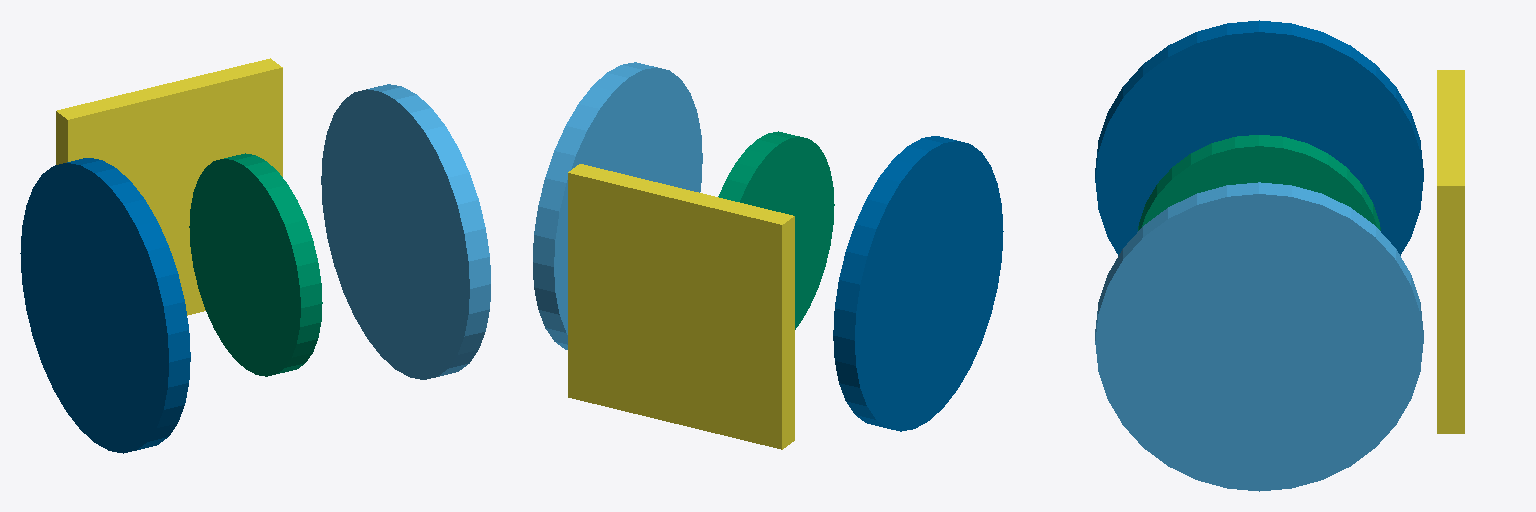
URDF robot description (ditto3):
<?xml version="1.0" ?>
<robot name="ditto3">
  <joint name="face_mover_joint" type="revolute">
    <parent link="body"/>
    <child link="mover_link"/>
    <origin rpy="3.14159  1.56989  3.14159" xyz="0    0    0.02"/>
    <axis xyz="-1.00000000e+00   0.00000000e+00  -9.00000000e-04"/>
    <limit effort="-1.0" lower="-1.79769e+308" upper="1.79769e+308" velocity="-1.0"/>
  </joint>
  <joint name="left_wheel_joint" type="revolute">
    <parent link="body"/>
    <child link="left_wheel"/>
    <origin rpy="1.5707  0      1.5707" xyz="0.07     0       0.01833"/>
    <axis xyz="0.00000000e+00   1.00000000e+00   9.00000000e-05"/>
    <limit effort="-1.0" lower="-1.79769e+308" upper="1.79769e+308" velocity="-1.0"/>
  </joint>
  <joint name="fixed_joint" type="revolute">
    <parent link="mover_link"/>
    <child link="front_face"/>
    <origin rpy="3.11515 -1.56988 -3.11517" xyz="0    0.07  0"/>
    <axis xyz="0  0  0"/>
    <limit effort="0" lower="0" upper="0" velocity="0"/>
  </joint>
  <joint name="right_wheel_joint" type="revolute">
    <parent link="body"/>
    <child link="right_wheel"/>
    <origin rpy="1.5707  0      1.5707" xyz="-0.07     0       0.01833"/>
    <axis xyz="0.00000000e+00   1.00000000e+00   9.00000000e-05"/>
    <limit effort="-1.0" lower="-1.79769e+308" upper="1.79769e+308" velocity="-1.0"/>
  </joint>
  <link name="body">
    <inertial>
      <mass value="40"/>
      <origin rpy="0  0  0" xyz="0  0  0"/>
      <inertia ixx="0.166667" ixy="0" ixz="0" iyy="0.166667" iyz="0" izz="0.166667"/>
    </inertial>
    <collision name="collision">
      <origin rpy="0  0  0" xyz="0       0      -0.03666"/>
      <geometry>
        <mesh filename="[local-path]/catkin_ws/src/Graduation CADs/OneDrive-2019-11-22/bodyCorrected.obj" scale="0.001 0.001 0.001"/>
      </geometry>
    </collision>
    <visual name="visual">
      <origin rpy="0  0  0" xyz="0       0      -0.03666"/>
      <geometry>
        <mesh filename="[local-path]/catkin_ws/src/Graduation CADs/OneDrive-2019-11-22/bodyCorrected.obj" scale="0.001 0.001 0.001"/>
      </geometry>
    </visual>
  </link>
  <link name="left_wheel">
    <inertial>
      <mass value="0.5"/>
      <origin rpy="0  0  0" xyz="0  0  0"/>
      <inertia ixx="0.145833" ixy="0" ixz="0" iyy="0.145833" iyz="0" izz="0.125"/>
    </inertial>
    <collision name="collision">
      <origin rpy="0  0  0" xyz="0  0  0"/>
      <geometry>
        <cylinder length="0.01" radius="0.06"/>
      </geometry>
    </collision>
    <visual name="visual">
      <origin rpy="0  0  0" xyz="0  0  0"/>
      <geometry>
        <cylinder length="0.01" radius="0.06"/>
      </geometry>
    </visual>
  </link>
  <link name="mover_link">
    <inertial>
      <mass value="0.5"/>
      <origin rpy="0  0  0" xyz="0  0  0"/>
      <inertia ixx="0.145833" ixy="0" ixz="0" iyy="0.145833" iyz="0" izz="0.125"/>
    </inertial>
    <collision name="collision">
      <origin rpy="0  0  0" xyz="0  0  0"/>
      <geometry>
        <cylinder length="0.01" radius="0.045"/>
      </geometry>
    </collision>
    <visual name="visual">
      <origin rpy="0  0  0" xyz="0  0  0"/>
      <geometry>
        <cylinder length="0.01" radius="0.045"/>
      </geometry>
    </visual>
  </link>
  <link name="front_face">
    <inertial>
      <mass value="150.5"/>
      <origin rpy="0  0  0" xyz="0  0  0"/>
      <inertia ixx="0.166667" ixy="0" ixz="0" iyy="0.166667" iyz="0" izz="0.166667"/>
    </inertial>
    <collision name="collision">
      <origin rpy="0  0  0" xyz="0  0  0"/>
      <geometry>
        <box size="0.1 0.01 0.1"/>
      </geometry>
    </collision>
    <visual name="visual">
      <origin rpy="0  0  0" xyz="0  0  0"/>
      <geometry>
        <box size="0.1 0.01 0.1"/>
      </geometry>
    </visual>
  </link>
  <link name="right_wheel">
    <inertial>
      <mass value="0.5"/>
      <origin rpy="0  0  0" xyz="0  0  0"/>
      <inertia ixx="0.145833" ixy="0" ixz="0" iyy="0.145833" iyz="0" izz="0.125"/>
    </inertial>
    <collision name="collision">
      <origin rpy="0  0  0" xyz="0  0  0"/>
      <geometry>
        <cylinder length="0.01" radius="0.06"/>
      </geometry>
    </collision>
    <visual name="visual">
      <origin rpy="0  0  0" xyz="0  0  0"/>
      <geometry>
        <cylinder length="0.01" radius="0.06"/>
      </geometry>
    </visual>
  </link>


  <gazebo>
    <plugin name="my_speed_controller_plugin" filename="libmy_speed_controller_plugin.so">
      <namespace_model>GPabstractV2</namespace_model>
      <activate_pid_control>no</activate_pid_control>                
      <wheel_kp>0.1</wheel_kp>
      <wheel_ki>0.0</wheel_ki>
      <wheel_kd>0.0</wheel_kd>
	  </plugin>
  </gazebo>
</robot>

--- Render facts (derived) ---
3 views of the same robot in one strip: view 1: azimuth 30°, elevation 25°; view 2: azimuth 150°, elevation 25°; view 3: azimuth 270°, elevation 25° (orthographic).
Model ditto3 with 5 links and 4 joints (4 revolute), rooted at body, posed every joint at zero.
Links seen in each view (by area): view 1: right_wheel, left_wheel, front_face, mover_link; view 2: front_face, right_wheel, left_wheel, mover_link; view 3: left_wheel, right_wheel, front_face, mover_link.
Boxes of the visible links, <box> form: right_wheel: <box>20,158,190,453</box>; left_wheel: <box>321,84,490,379</box>; front_face: <box>56,58,282,315</box>; mover_link: <box>189,153,322,376</box>; front_face: <box>568,164,794,449</box>; right_wheel: <box>833,136,1003,431</box>; left_wheel: <box>533,62,702,349</box>; mover_link: <box>718,131,834,329</box>; left_wheel: <box>1095,182,1423,491</box>; right_wheel: <box>1095,20,1423,255</box>; front_face: <box>1437,70,1464,433</box>; mover_link: <box>1138,135,1380,230</box>.
Bounding box of the posed robot: 0.15 × 0.135 × 0.12 m (x, y, z).
Geometry: only primitive shapes (box / cylinder / sphere) drawn; not drawn: 1 mesh visual (reference in a form the renderer does not follow).